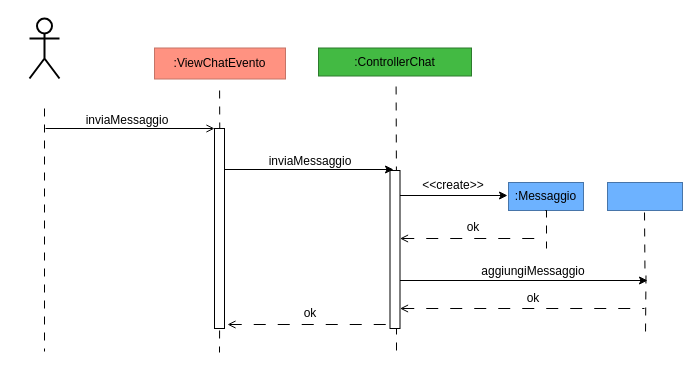
This 700x371 diagram has some shape labels left out. Each missing label, with the centre of its shape:
":Chat" belongs at point (644, 196).
"Utente" belongs at point (44, 48).
